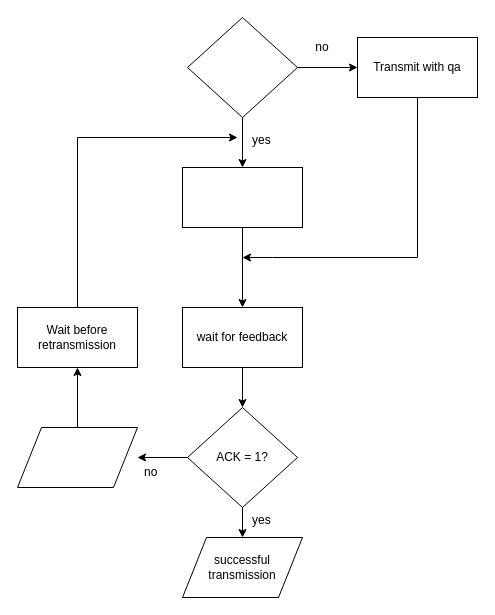
This 495x615 diagram has some shape labels left out. Each missing label, with the centre of its shape:
collision: the point at 77,457
is node backlogged?: the point at 242,67
Transmit with qr: the point at 242,197
